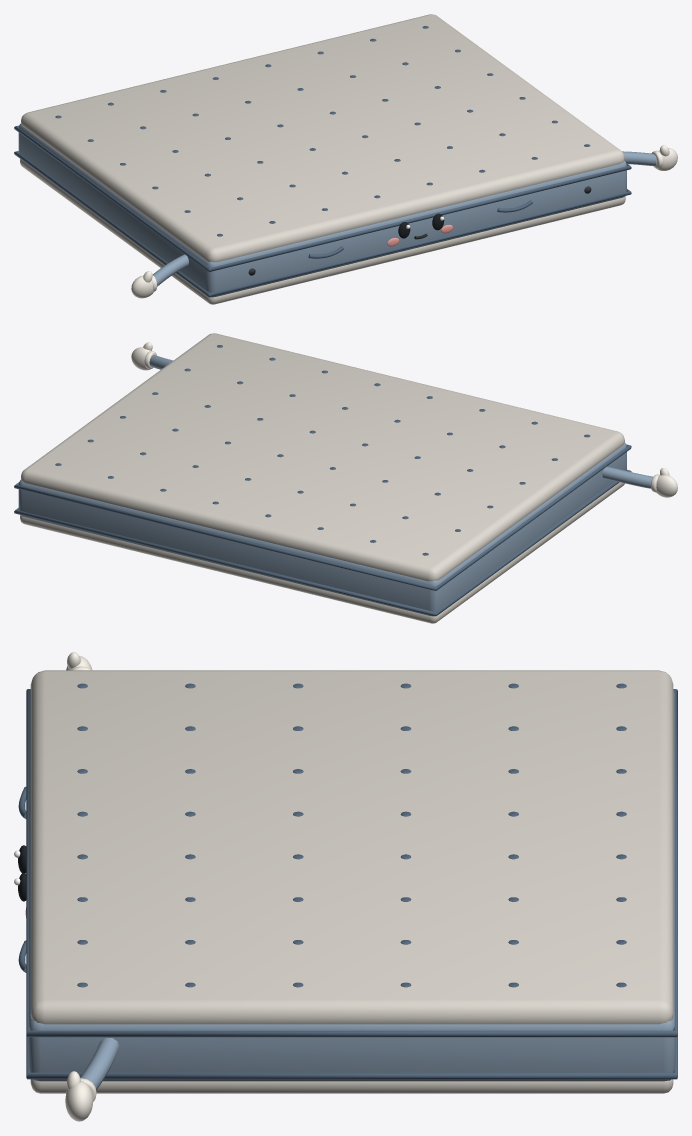
File: mattress-double.glb
The picture shows the model from 3 angles, top to bottom: view 1: azimuth 30°, elevation 25°; view 2: azimuth 150°, elevation 25°; view 3: azimuth 270°, elevation 25°; orthographic projection. The views are drawn at different scales.
Parts seen in each view (by area): view 1: Upholstery.006, Arm_L.006, Arm_R.006; view 2: Upholstery.006, Arm_L.006, Arm_R.006; view 3: Upholstery.006, Arm_R.006.
Boxes of the visible parts, x1=… form: Upholstery.006: x1=14, y1=14, x2=631, y2=304; Arm_L.006: x1=131, y1=254, x2=188, y2=298; Arm_R.006: x1=622, y1=145, x2=677, y2=170; Upholstery.006: x1=14, y1=333, x2=631, y2=623; Arm_L.006: x1=602, y1=466, x2=677, y2=497; Arm_R.006: x1=131, y1=342, x2=173, y2=370; Upholstery.006: x1=18, y1=670, x2=677, y2=1093; Arm_R.006: x1=65, y1=1038, x2=119, y2=1121.
Bounding box in the file's own units: 2.6 × 0.252 × 1.64.
